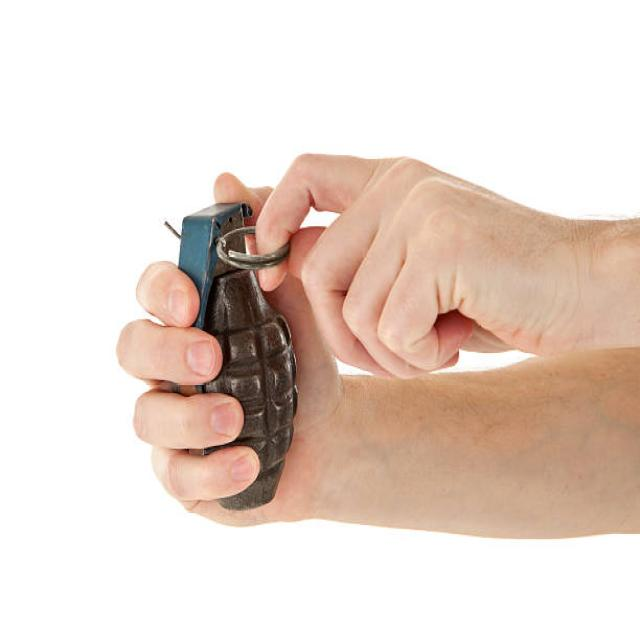grenade: (173, 198, 300, 517)
